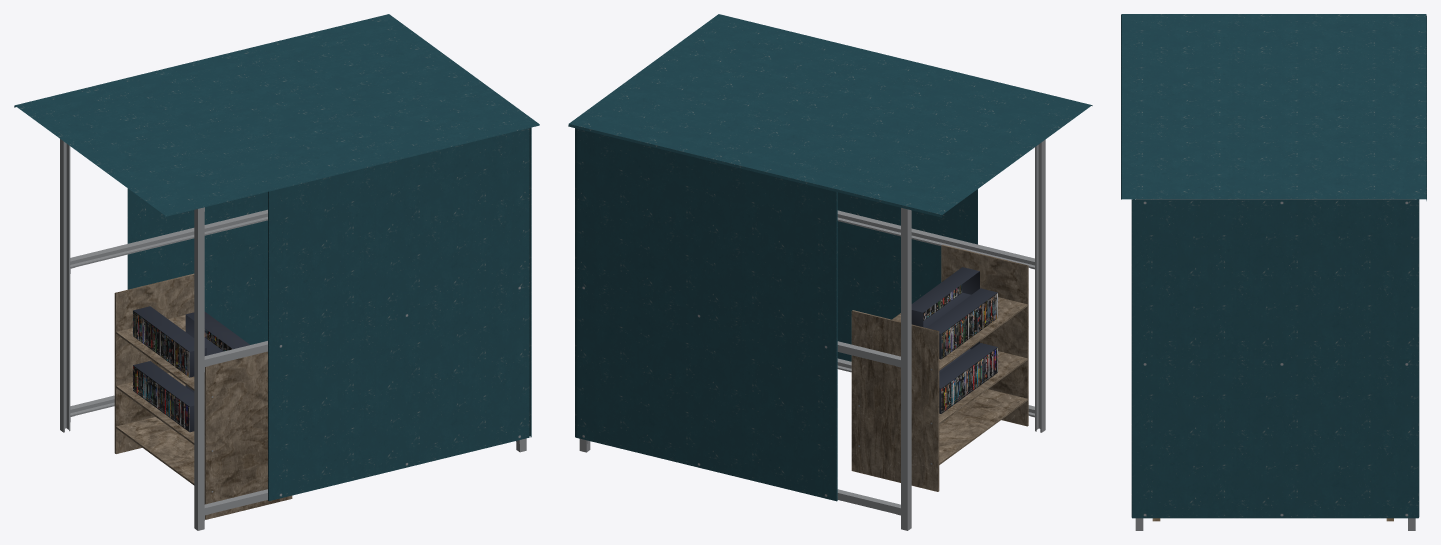
The model's file is market_stall__sleeping_dogs_universe__opt.ver..glb.
The picture shows the model from 3 angles, left to right: view 1: azimuth 30°, elevation 25°; view 2: azimuth 150°, elevation 25°; view 3: azimuth 270°, elevation 25°; orthographic projection.
Parts seen in each view (by area): view 1: left.lp.004, left.lp.005, left.lp.001, left.lp.008, left.lp.009, left.lp.002, front.back.002, front.back, left.lp.003, front.back.008, dvd.006, dvd1.001 (+15 smaller); view 2: left.lp.002, left.lp.003, left.lp.001, left.lp.008, left.lp.009, front.back.001, left.lp.004, front.back.003, front.back.008, left.lp.005, dvd.006, dvd1.001 (+15 smaller); view 3: left.lp.007, left.lp.006, left.lp.001, left.lp.008, left.lp.009.
Boxes of the visible parts, x1,y1,x2,y2 form: left.lp.004: (268, 280, 529, 500); left.lp.005: (268, 128, 529, 343); left.lp.001: (239, 14, 539, 161); left.lp.008: (89, 50, 389, 198); left.lp.009: (14, 87, 314, 216); left.lp.002: (127, 206, 267, 344); front.back.002: (205, 351, 292, 519); front.back: (116, 274, 194, 453); left.lp.003: (127, 188, 267, 240); front.back.008: (116, 417, 194, 483); dvd.006: (133, 311, 189, 377); dvd1.001: (133, 365, 189, 431); left.lp.002: (577, 281, 837, 501); left.lp.003: (577, 129, 837, 344); left.lp.001: (568, 14, 868, 162); left.lp.008: (718, 50, 1018, 199); left.lp.009: (793, 86, 1092, 217); front.back.001: (851, 311, 938, 491); left.lp.004: (837, 207, 977, 361); front.back.003: (941, 245, 1027, 426); front.back.008: (939, 389, 1027, 463); left.lp.005: (837, 189, 977, 240); dvd.006: (941, 292, 997, 358); dvd1.001: (941, 347, 997, 413); left.lp.007: (1131, 199, 1419, 358); left.lp.006: (1131, 358, 1419, 518); left.lp.001: (1121, 125, 1426, 200); left.lp.008: (1121, 50, 1426, 126); left.lp.009: (1121, 14, 1426, 89).
Size of the model in its own units: 290 by 244 by 202.
1 material, 1 textured.
